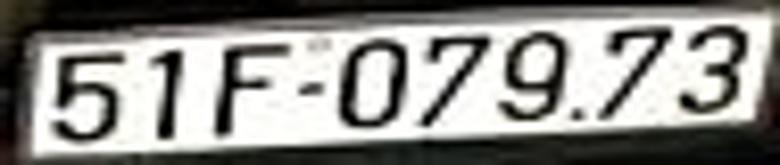-: (294, 82, 325, 94)
.: (570, 102, 585, 121)
0: (339, 39, 406, 130)
1: (151, 49, 178, 138)
3: (680, 22, 746, 114)
5: (55, 55, 124, 141)
7: (597, 30, 672, 119), (424, 37, 486, 126)
9: (501, 32, 565, 121)
F: (216, 45, 285, 134)
